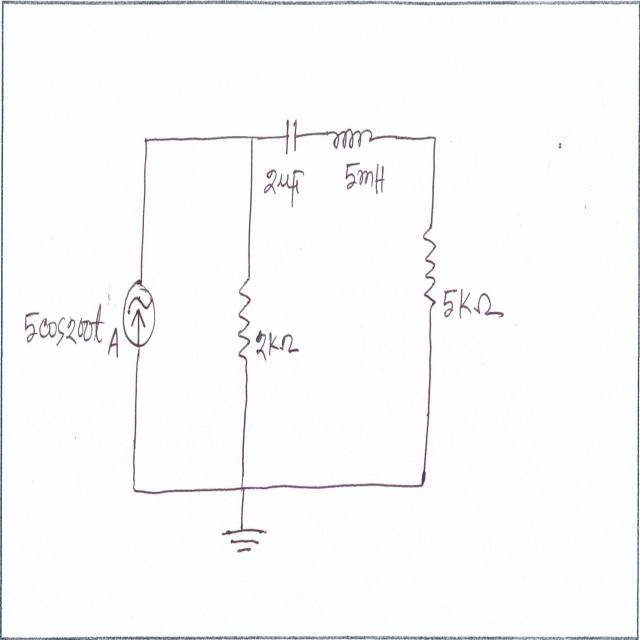capacitor: (280, 116, 302, 157)
current_source: (121, 275, 157, 350)
ground: (222, 522, 268, 561)
inductor: (323, 120, 376, 155)
resistor: (419, 221, 440, 314), (236, 275, 253, 367)
